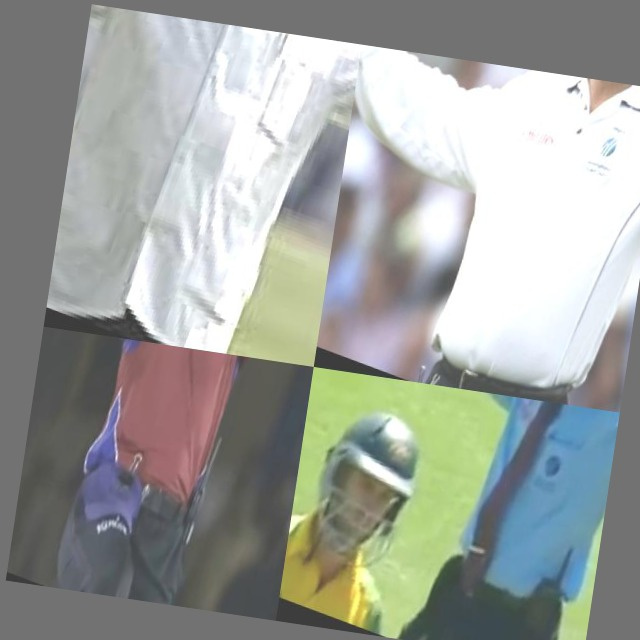Six: (9, 327, 314, 621)
Wide: (314, 45, 640, 413), (44, 4, 362, 367), (276, 367, 620, 640)
